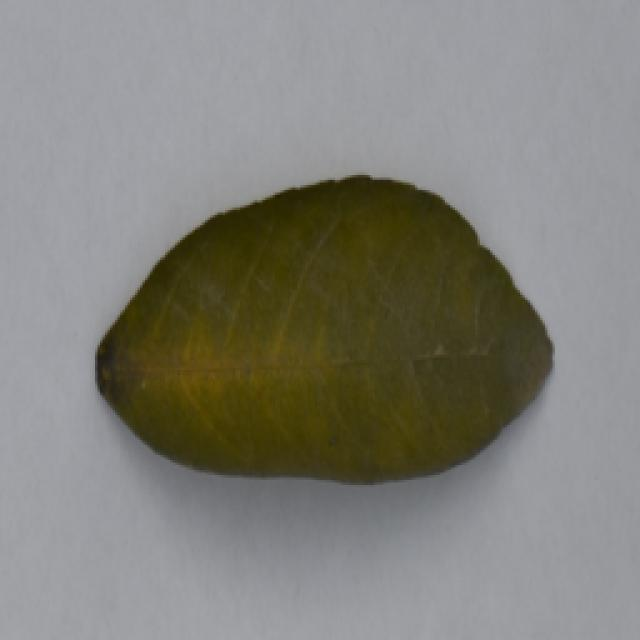greening: (82, 153, 575, 498)
